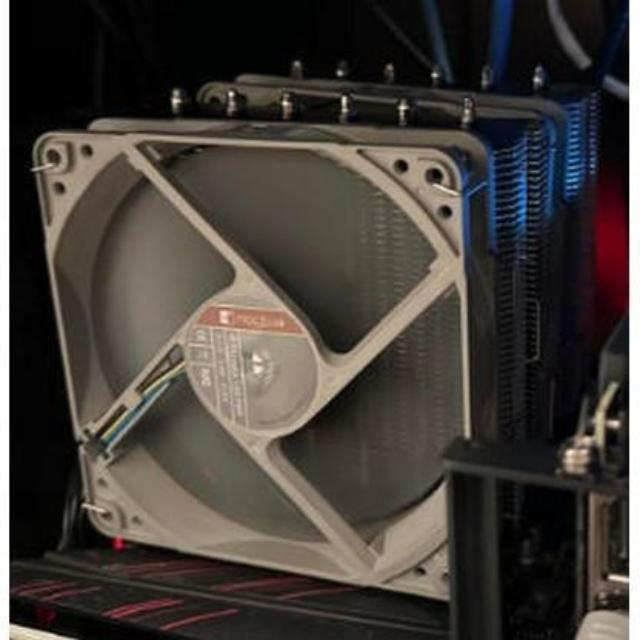CPU_Fan: (37, 57, 606, 594)
